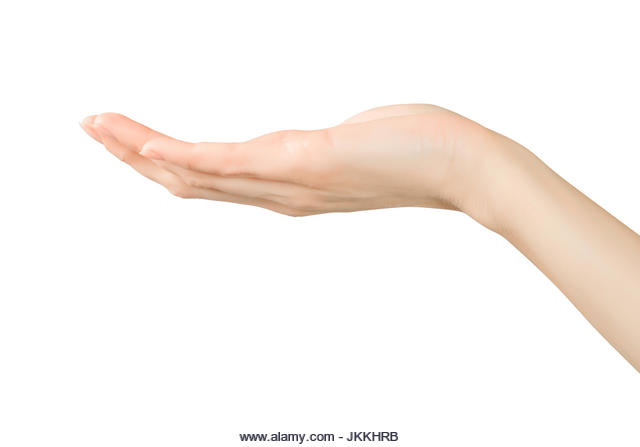hand: (65, 70, 499, 276)
